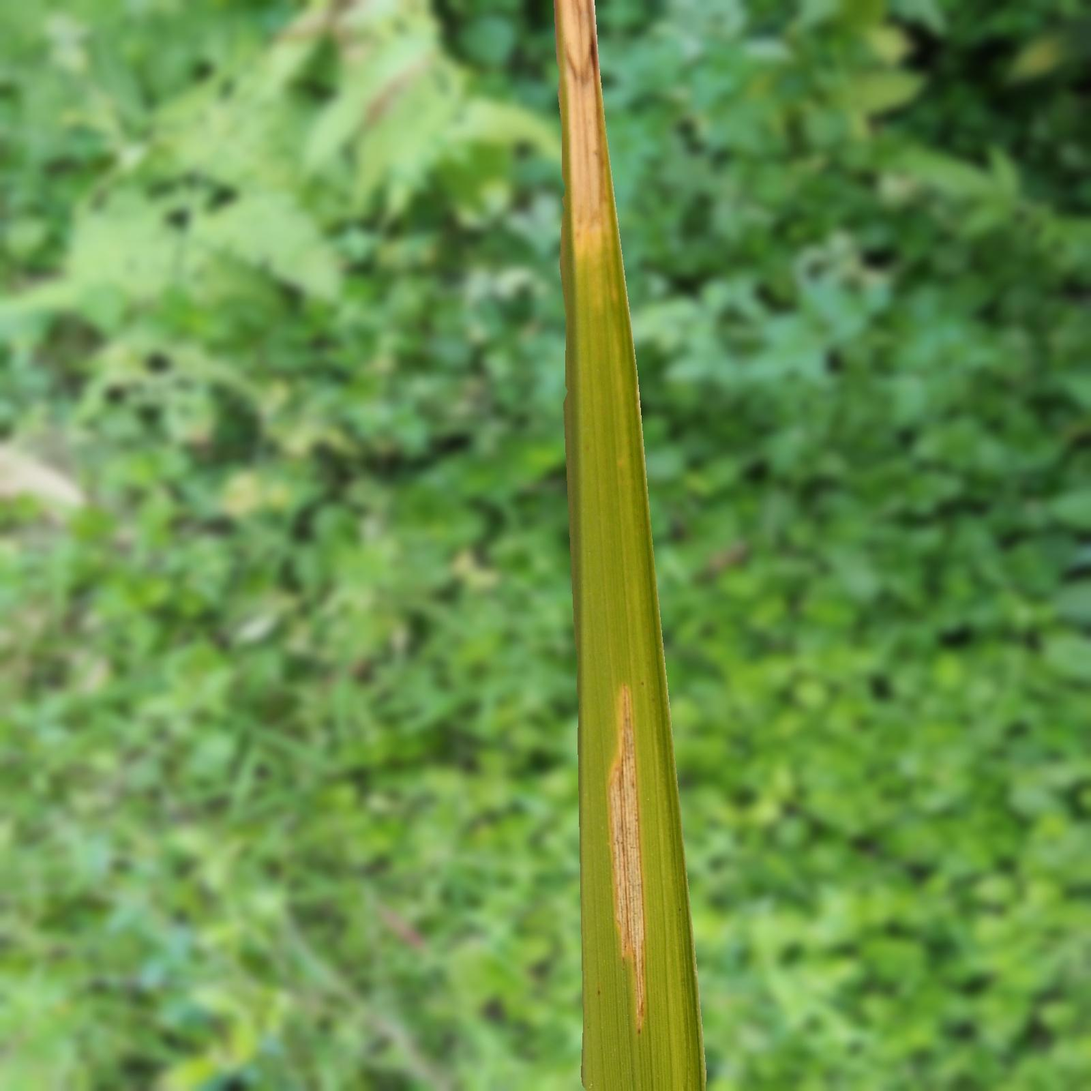BLS: (554, 0, 621, 316), (608, 684, 646, 1033)
LEAF: (554, 0, 706, 1090)
